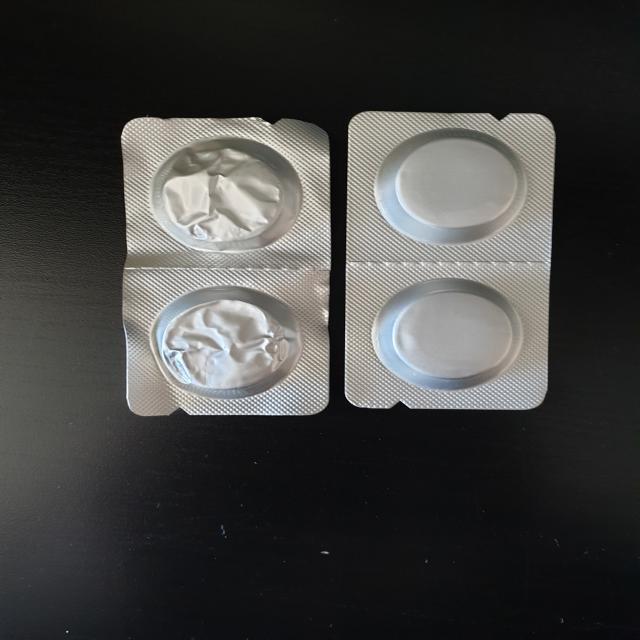Empty: (140, 136, 313, 252), (148, 284, 307, 399)
Pill: (366, 130, 533, 248), (375, 274, 527, 390)
